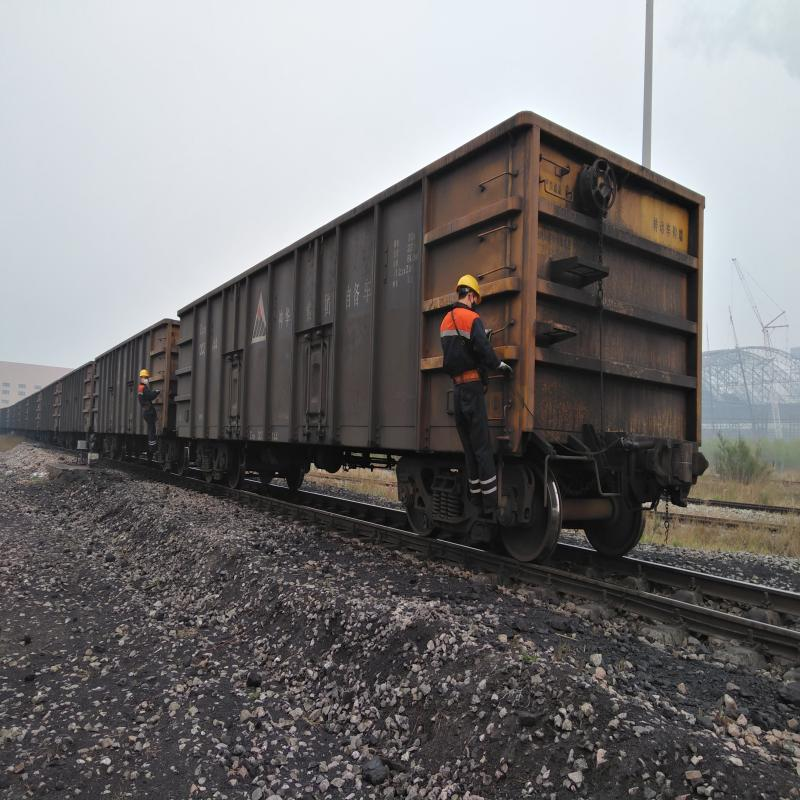train: (169, 307, 326, 496)
